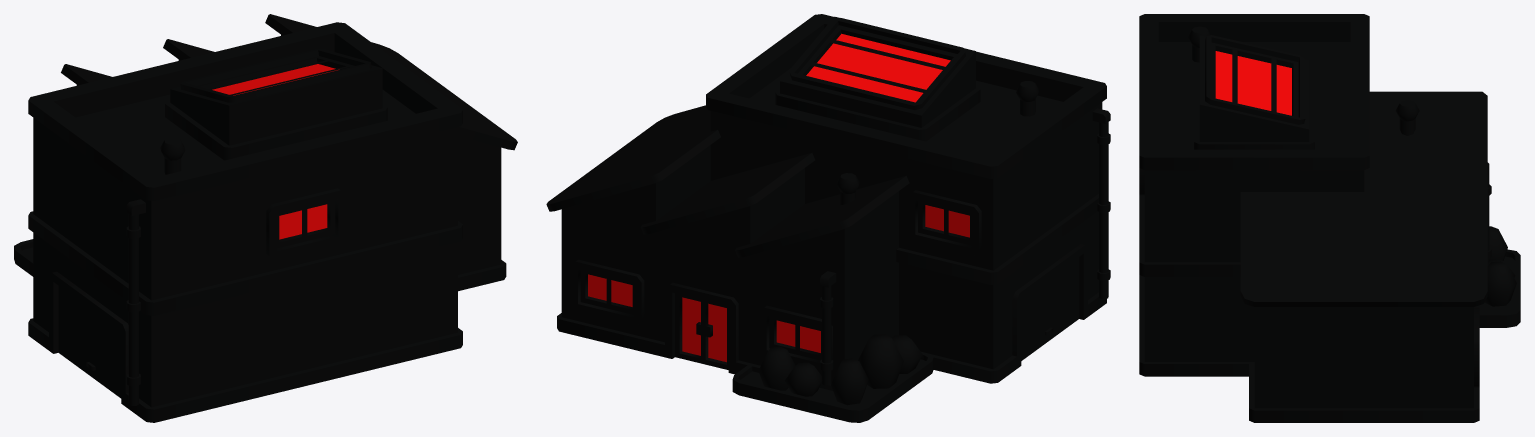
The model's file is building-t.glb.
3 views of the same model, side by side, from view 1: azimuth 30°, elevation 25°; view 2: azimuth 150°, elevation 25°; view 3: azimuth 270°, elevation 25° (orthographic). The views are drawn at different scales.
Parts seen in each view (by area): view 1: building-t; view 2: building-t; view 3: building-t.
Part boxes in pixels (bbox=[...]): building-t: bbox=[14, 14, 517, 422]; building-t: bbox=[546, 14, 1110, 422]; building-t: bbox=[1139, 14, 1520, 422].
Size of the model in its own units: 1.72 by 1.01 by 1.39.
Materials: 1 (1 with a texture image).
